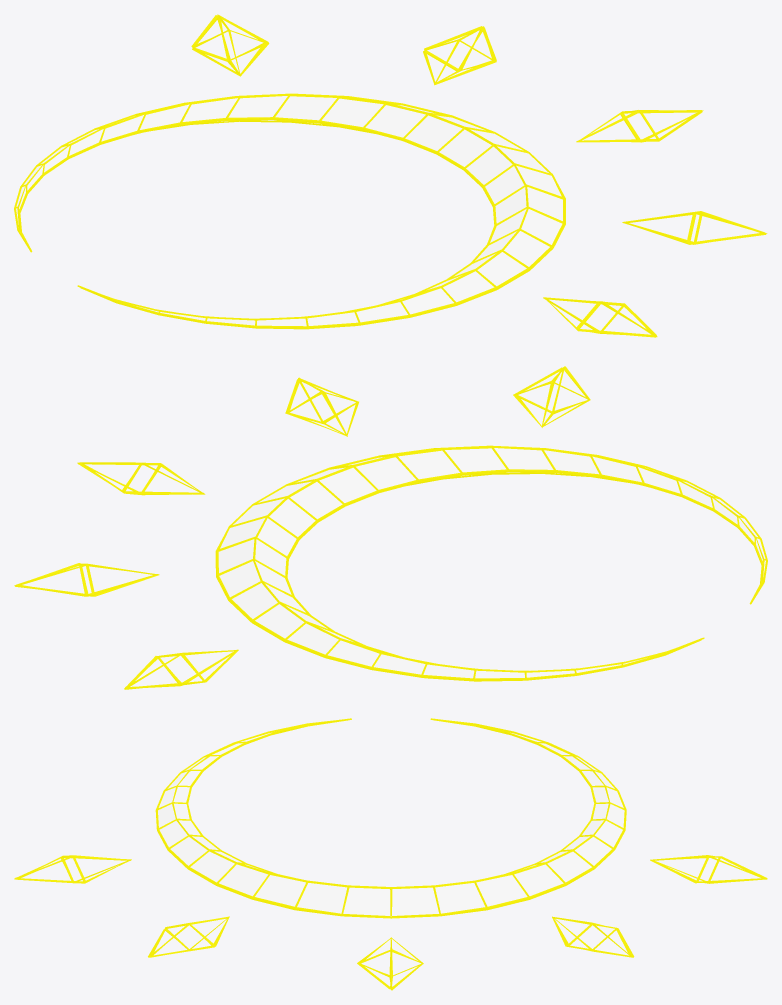
File: Archon Arc Export.glb
The picture shows the model from 3 angles, top to bottom: view 1: azimuth 30°, elevation 25°; view 2: azimuth 150°, elevation 25°; view 3: azimuth 270°, elevation 25°; orthographic projection. The views are drawn at different scales.
Visible parts, largest first — view 1: Crest, Diamond.001, Diamond.002, Diamond, Diamond.004, Diamond.003; view 2: Crest, Diamond.002, Diamond, Diamond.004, Diamond.003, Diamond.001; view 3: Crest, Diamond.002, Diamond.004, Diamond.001, Diamond.003, Diamond.
Part boxes in pixels (x1,y1,x2,y2): Crest: (14, 93, 565, 329); Diamond.001: (423, 26, 496, 85); Diamond.002: (191, 14, 269, 76); Diamond: (576, 110, 703, 142); Diamond.004: (543, 297, 657, 337); Diamond.003: (622, 211, 767, 244); Crest: (215, 445, 767, 681); Diamond.002: (124, 649, 238, 689); Diamond: (77, 462, 205, 495); Diamond.004: (513, 366, 590, 427); Diamond.003: (285, 377, 358, 436); Diamond.001: (14, 563, 159, 596); Crest: (155, 718, 626, 918); Diamond.002: (650, 855, 767, 883); Diamond.004: (14, 855, 131, 883); Diamond.001: (552, 916, 634, 957); Diamond.003: (148, 916, 229, 957); Diamond: (357, 937, 423, 990).
Size of the model in its own units: 2.54 by 0.1365 by 2.99.
